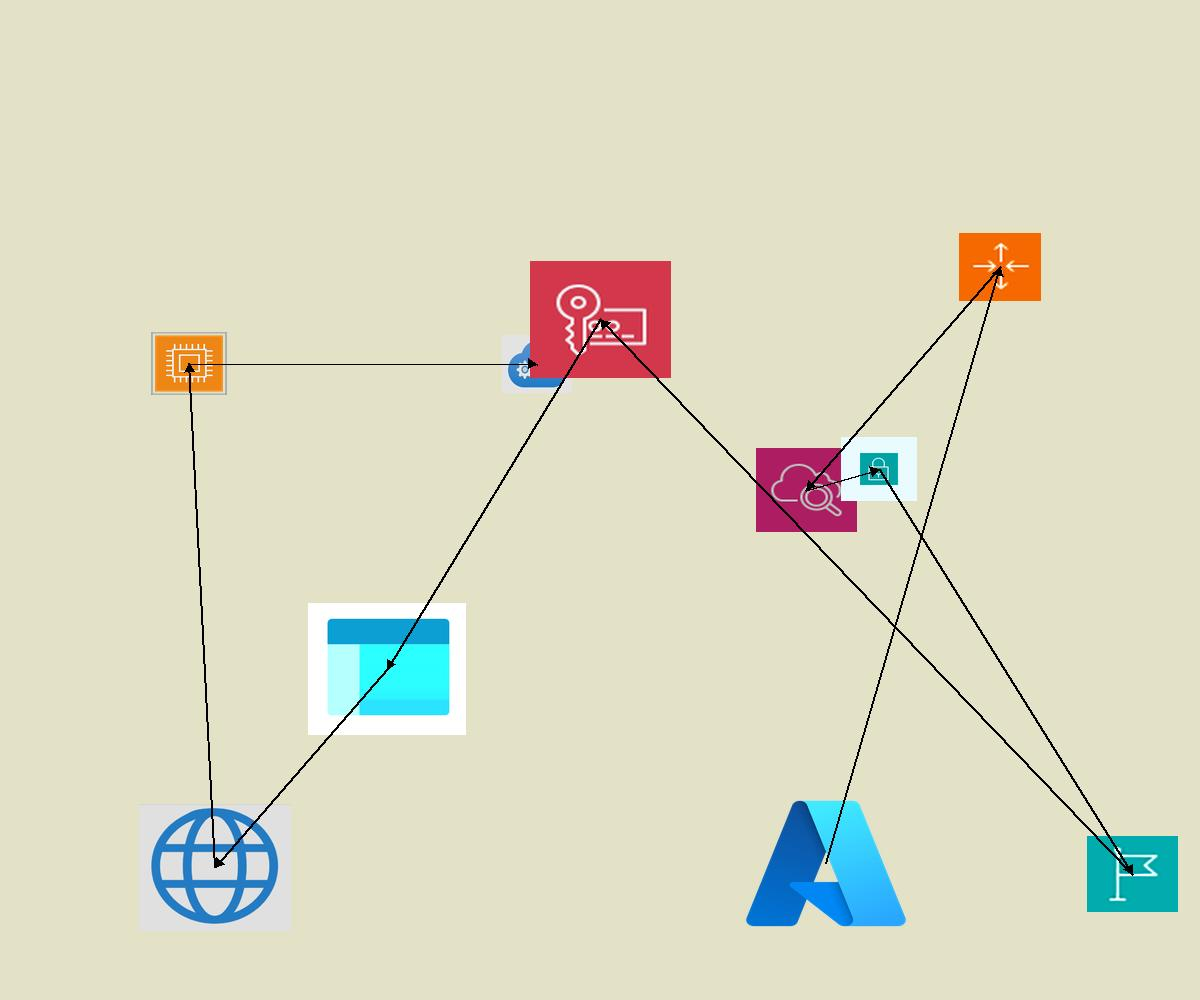AWS-Category_Compute: (151, 332, 227, 395)
AWS-CloudWatch: (756, 448, 857, 532)
AWS-Key-Management-Service: (530, 261, 671, 378)
AWS-Private-subnet: (841, 437, 917, 501)
AWS-Region: (1087, 836, 1178, 912)
AWS-Scaling-group: (959, 233, 1041, 301)
Azure_cloud_services: (502, 335, 572, 393)
Azure_http: (139, 804, 291, 931)
Azure_management-portal: (308, 603, 466, 735)
Azure_services: (739, 791, 913, 936)
